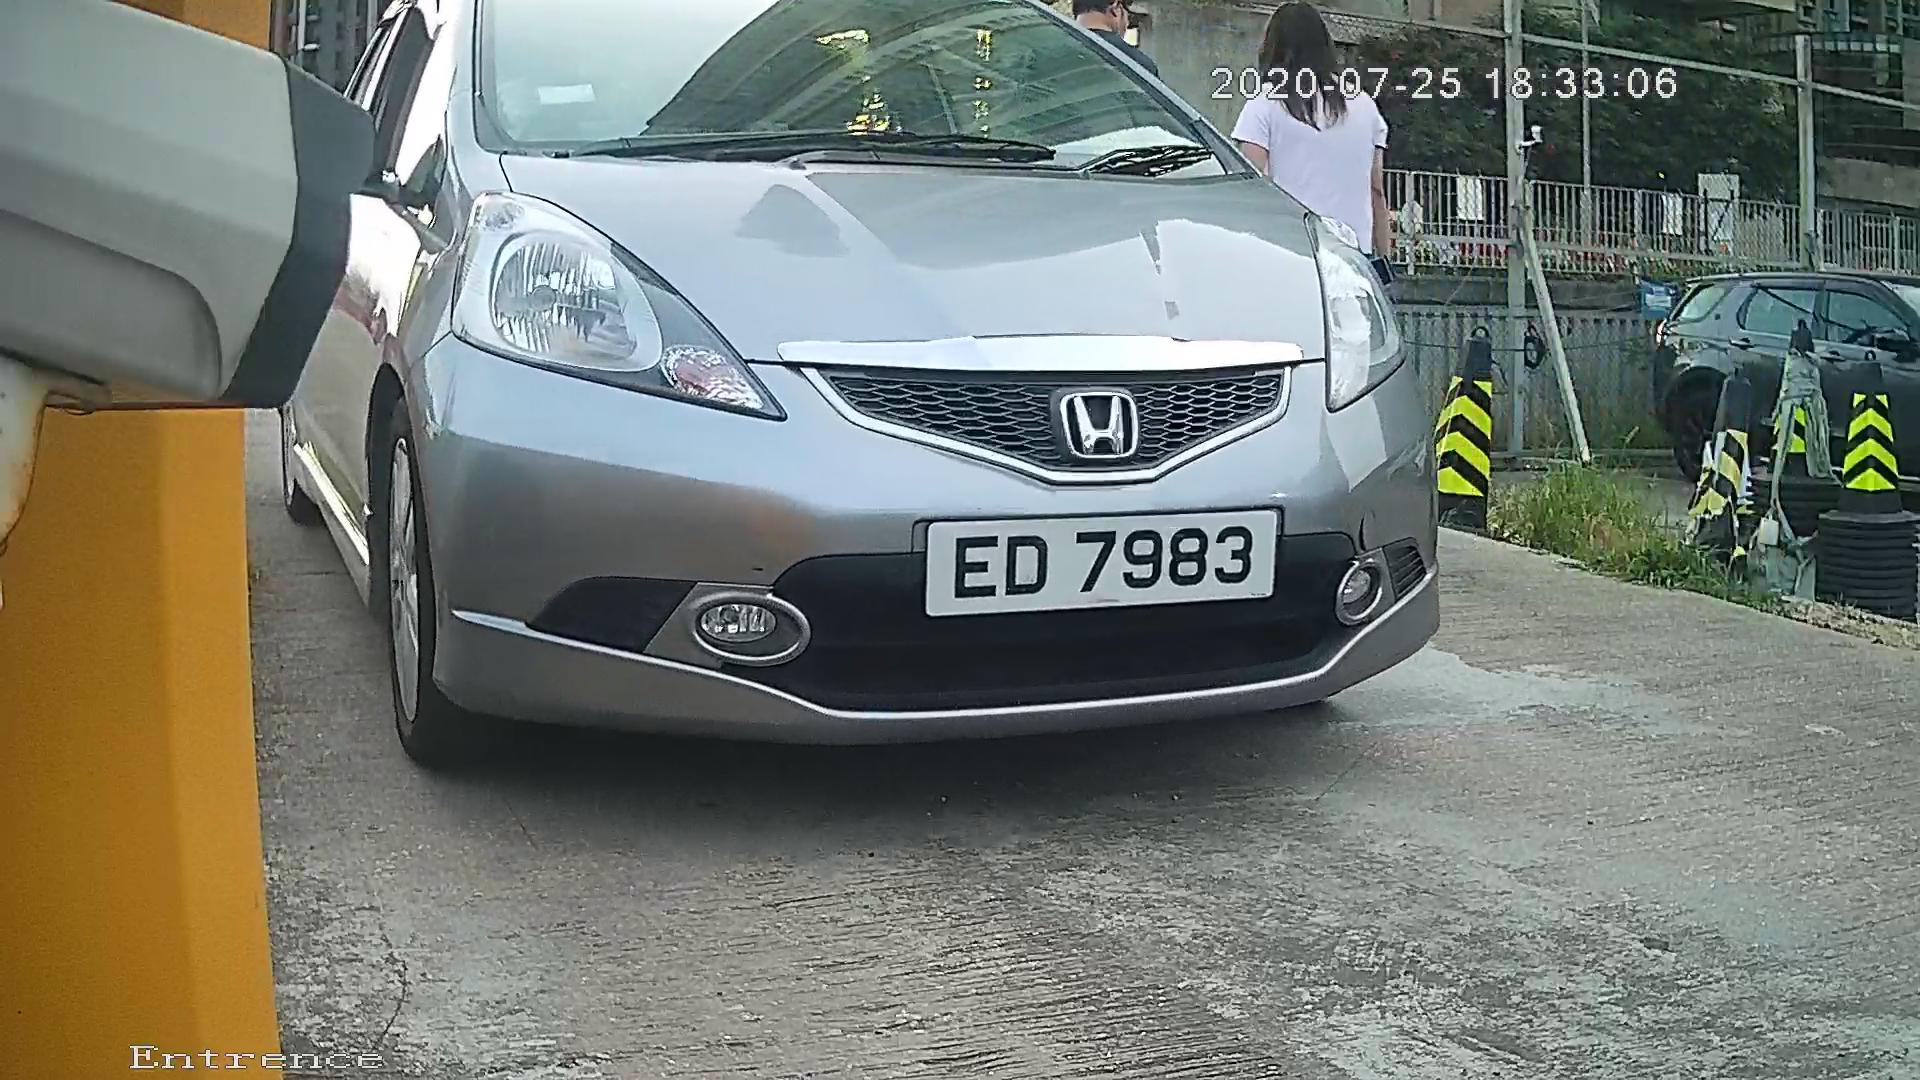License Plate: (918, 487, 1295, 632)
